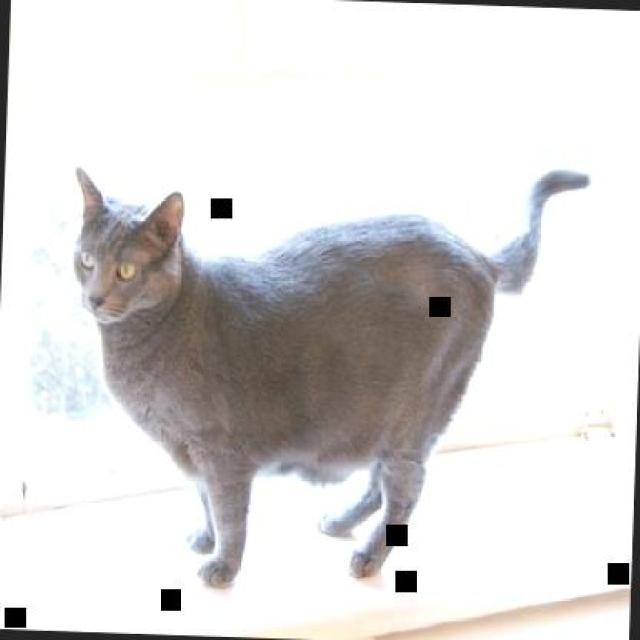cat: (59, 153, 592, 602)
